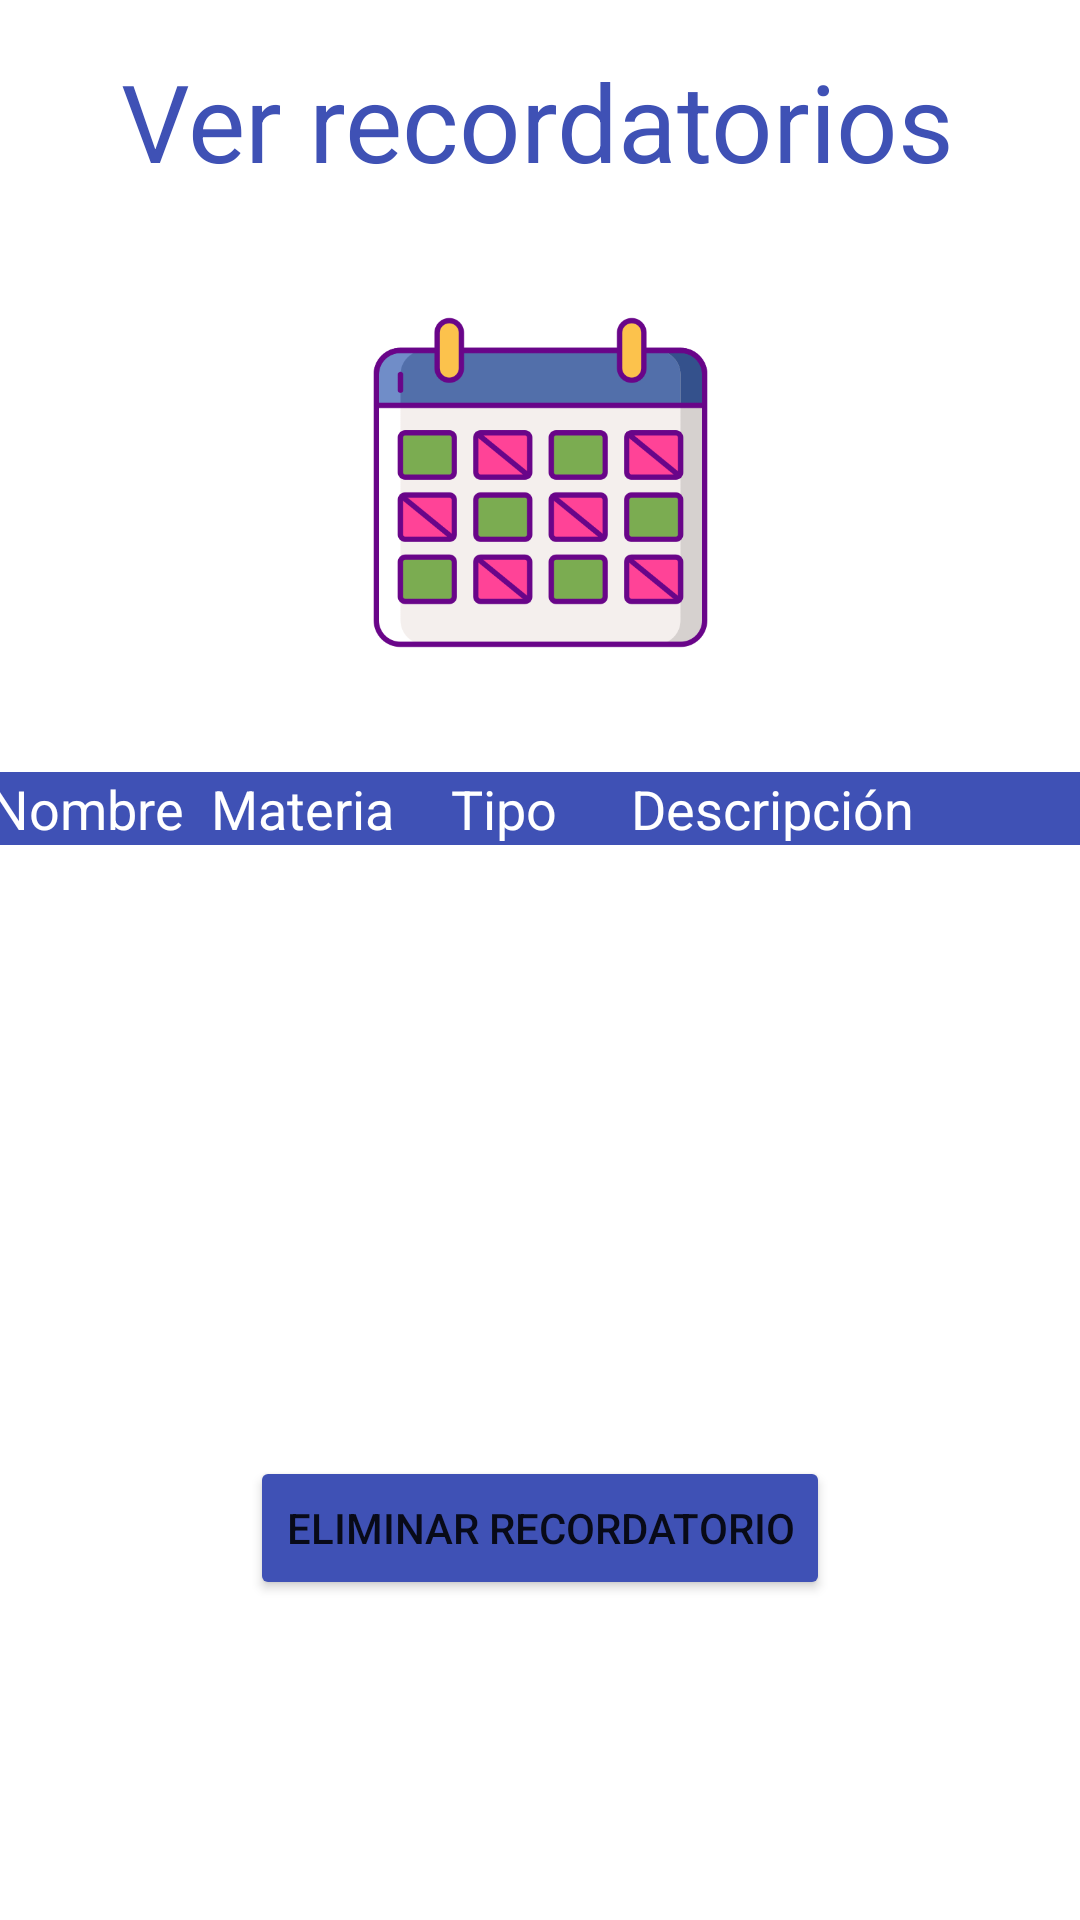

Where icons sit on this 1080 x 1920 app screen, as (x1, y1, x2, y2):
horario estudiantil: (373, 317, 708, 648)
